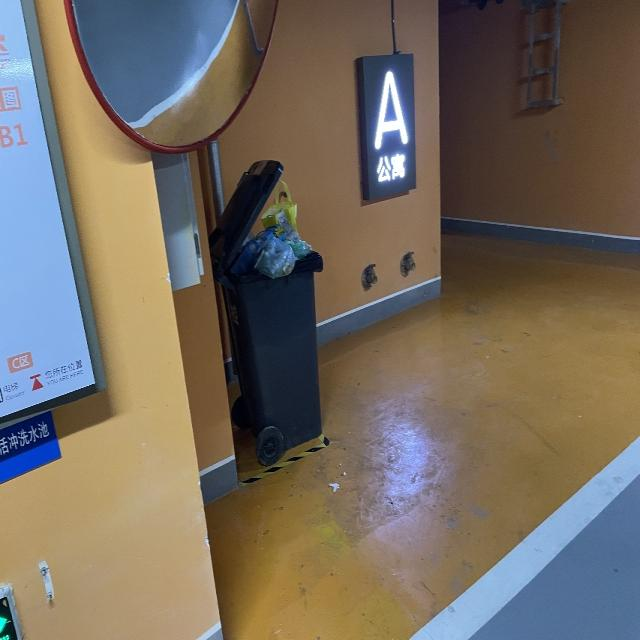overflow: (208, 159, 324, 450)
